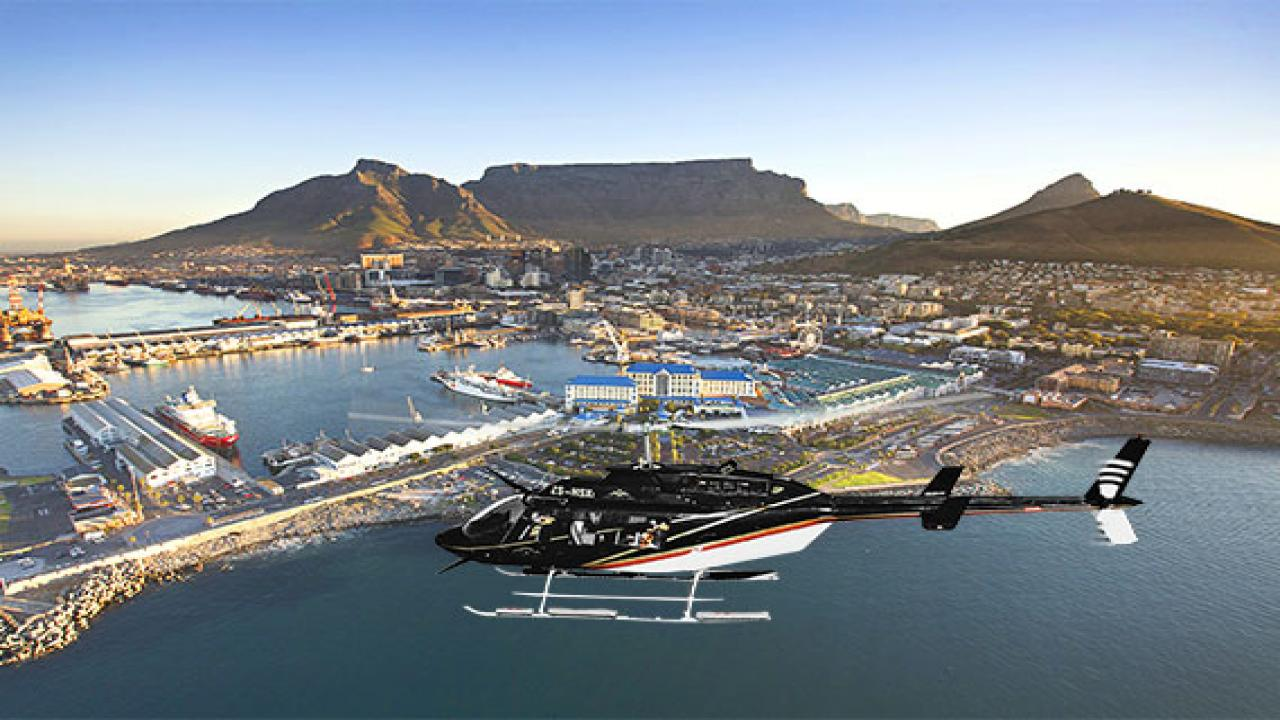Helicopter: (338, 389, 1170, 654)
